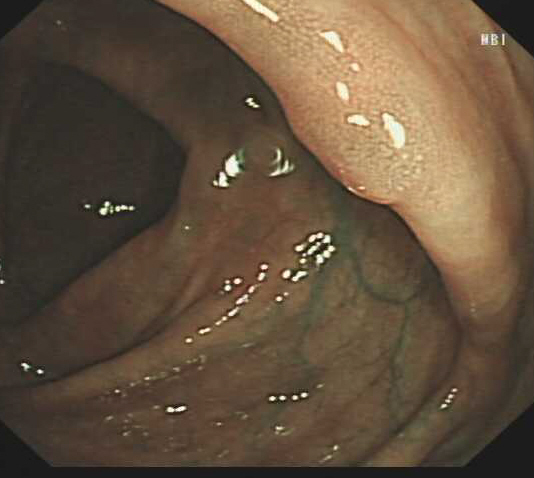adenoma: (270, 61, 433, 207)
